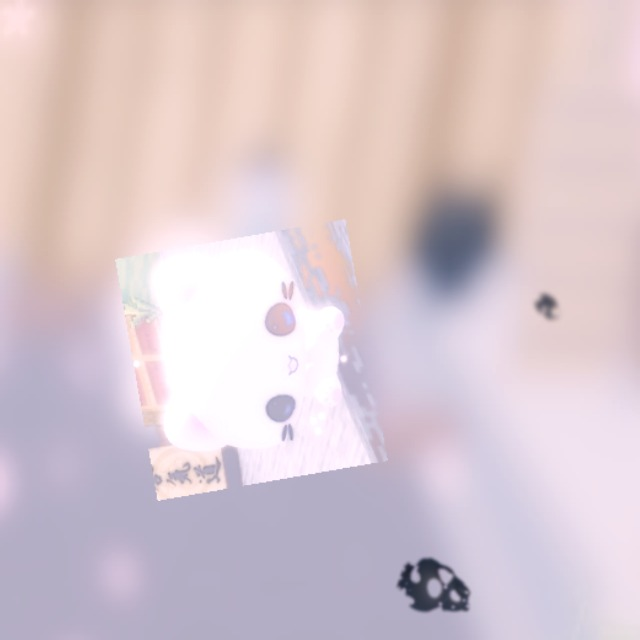urso_branco: (115, 219, 388, 501)
urso_preto: (390, 548, 486, 633), (527, 285, 569, 330)
